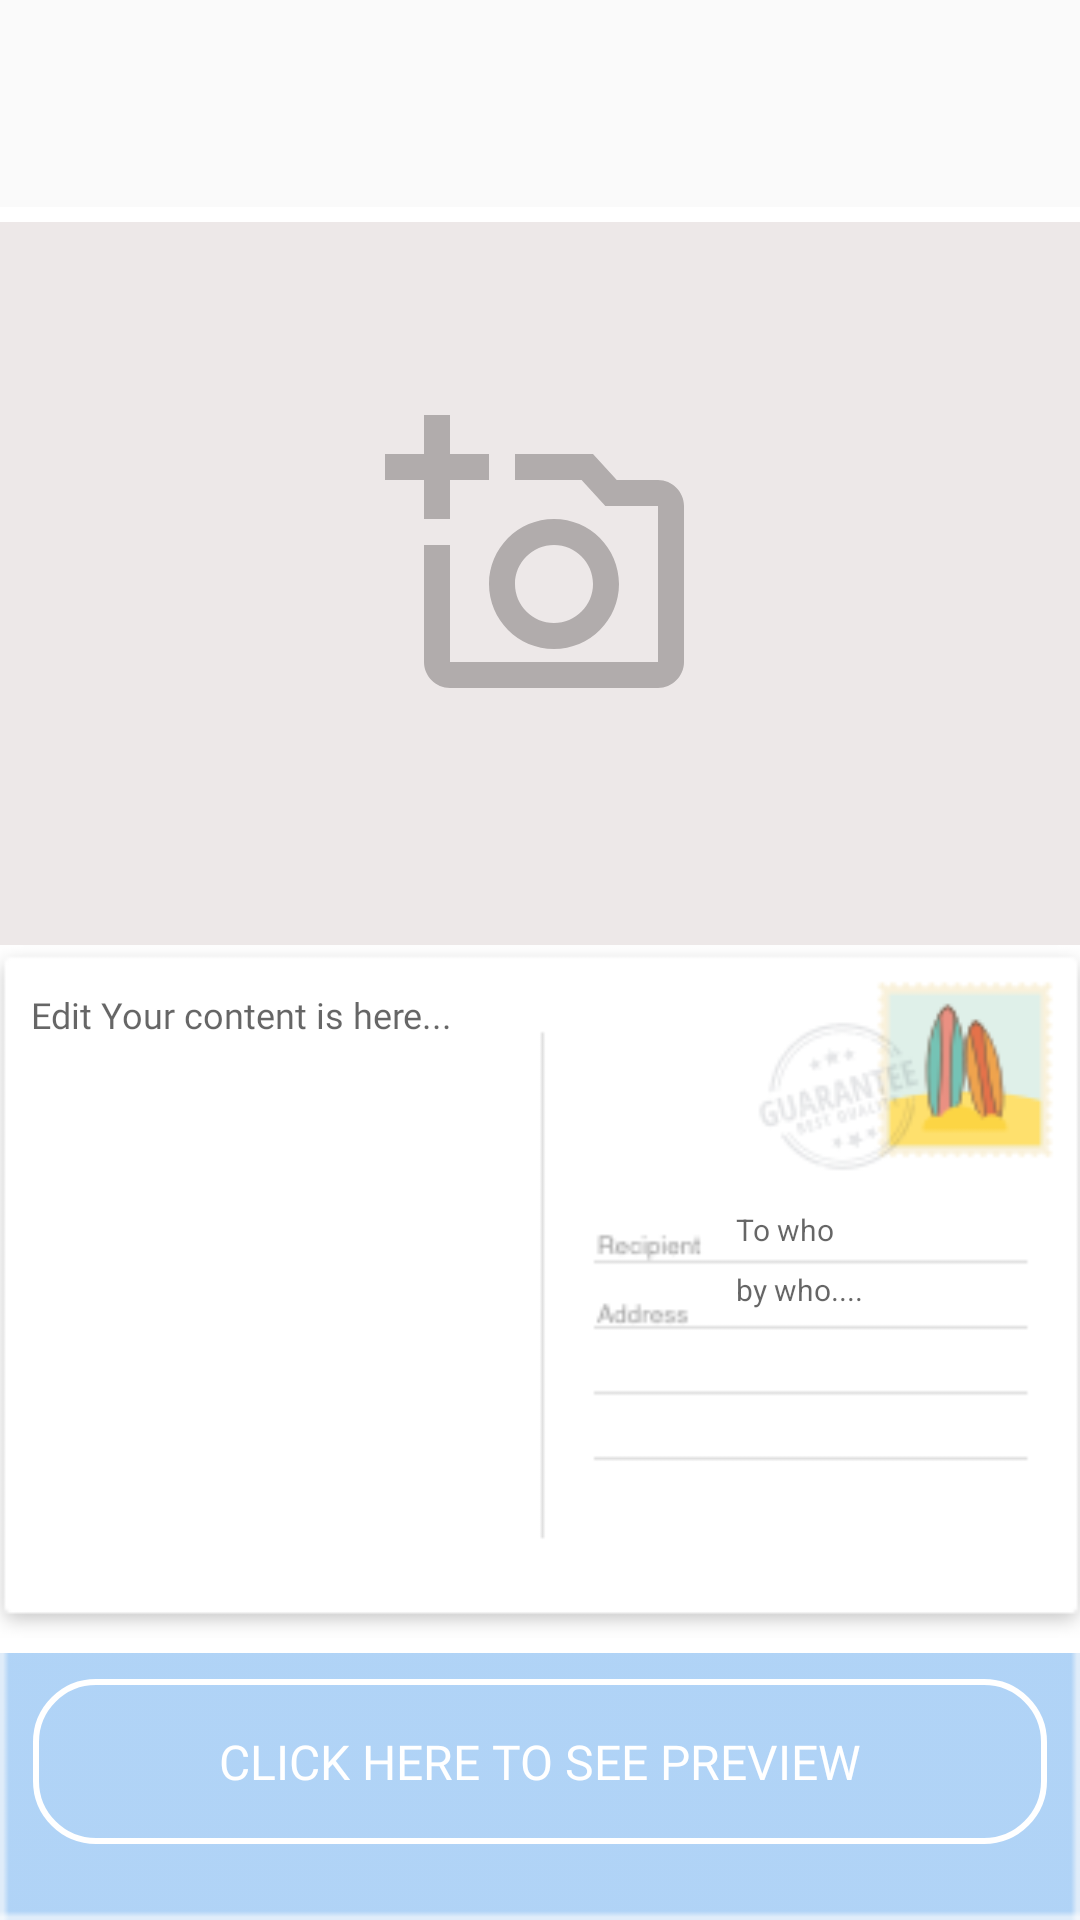

Where icons sit on this 1080w x 1920h app screen, as (x1, y1, x2, y2):
add photo: (385, 415, 684, 688)
